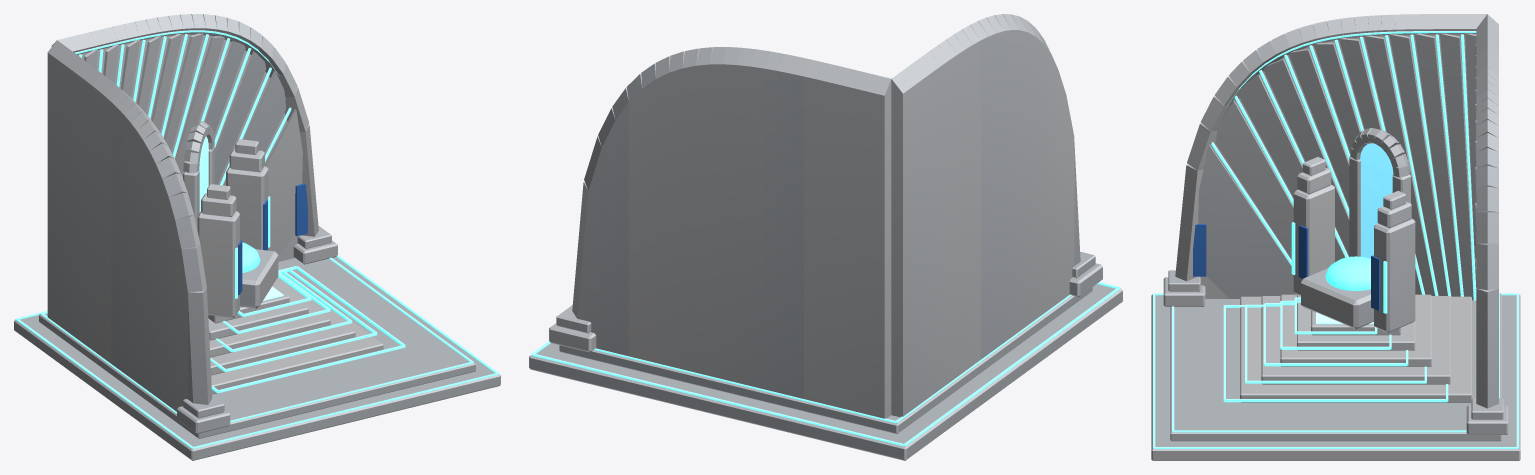
The model's file is trone.glb.
The picture shows the model from 3 angles, left to right: view 1: azimuth 30°, elevation 25°; view 2: azimuth 150°, elevation 25°; view 3: azimuth 270°, elevation 25°; orthographic projection. The views are drawn at different scales.
Parts seen in each view (by area): view 1: trone; view 2: trone; view 3: trone.
Boxes of the visible parts, x1=… form: trone: x1=14, y1=14, x2=500, y2=460; trone: x1=529, y1=14, x2=1122, y2=460; trone: x1=1151, y1=14, x2=1520, y2=460.
Size of the model in its own units: 3.9 by 3.56 by 3.9.
